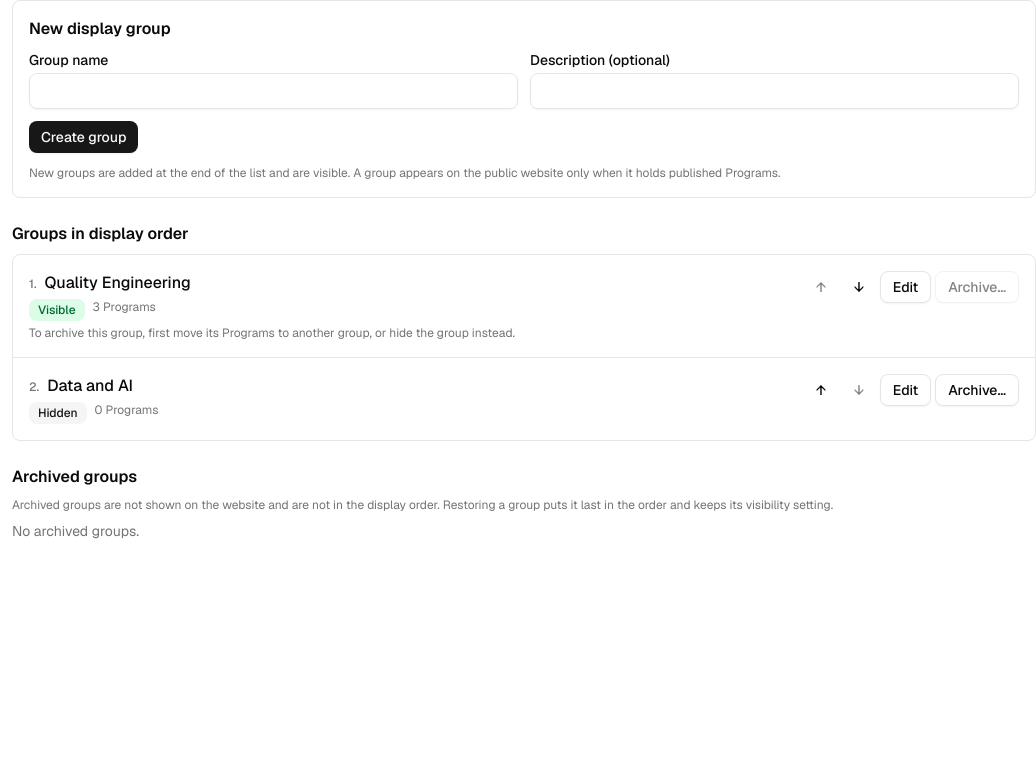
Test case: DisplayGroupsManager archive and restore › asks for confirmation before archiving, and Cancel archives nothing
Click the button with aria-label "Archive Data and AI". click: (977, 390)
box: [935,374,1019,406]
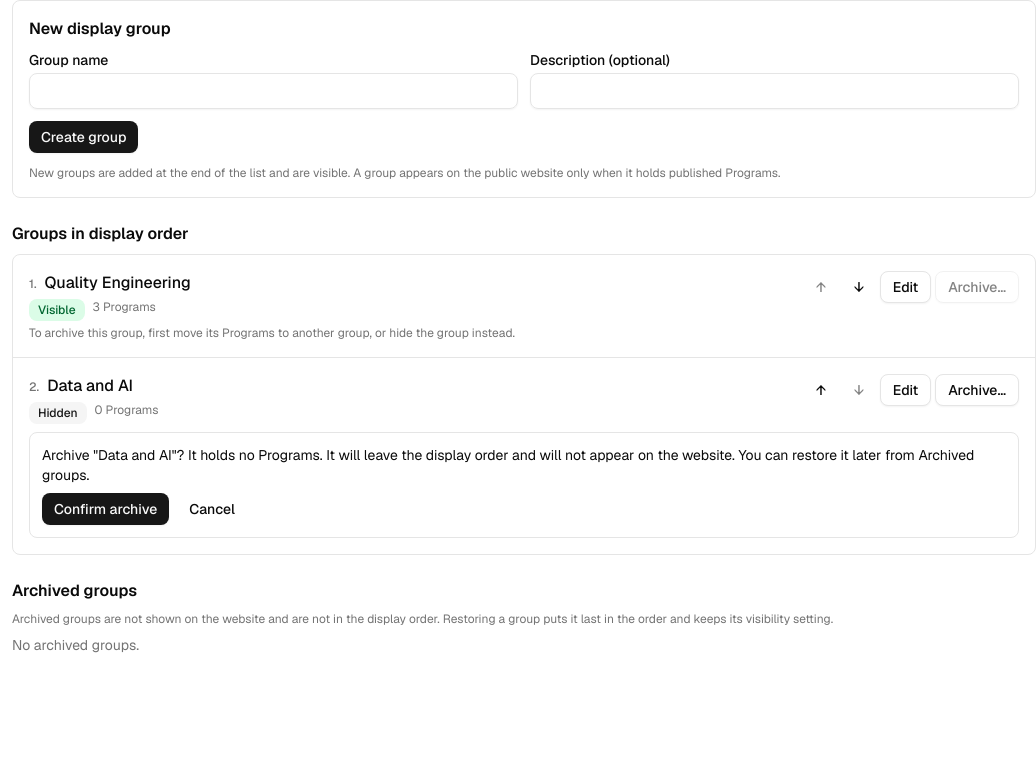
Expected: the text "Archive \"Data and AI\"? It holds no Programs" is shown, [42,445,1006,485]
Click the button "Cancel". click: (212, 509)
box: [177,493,247,525]
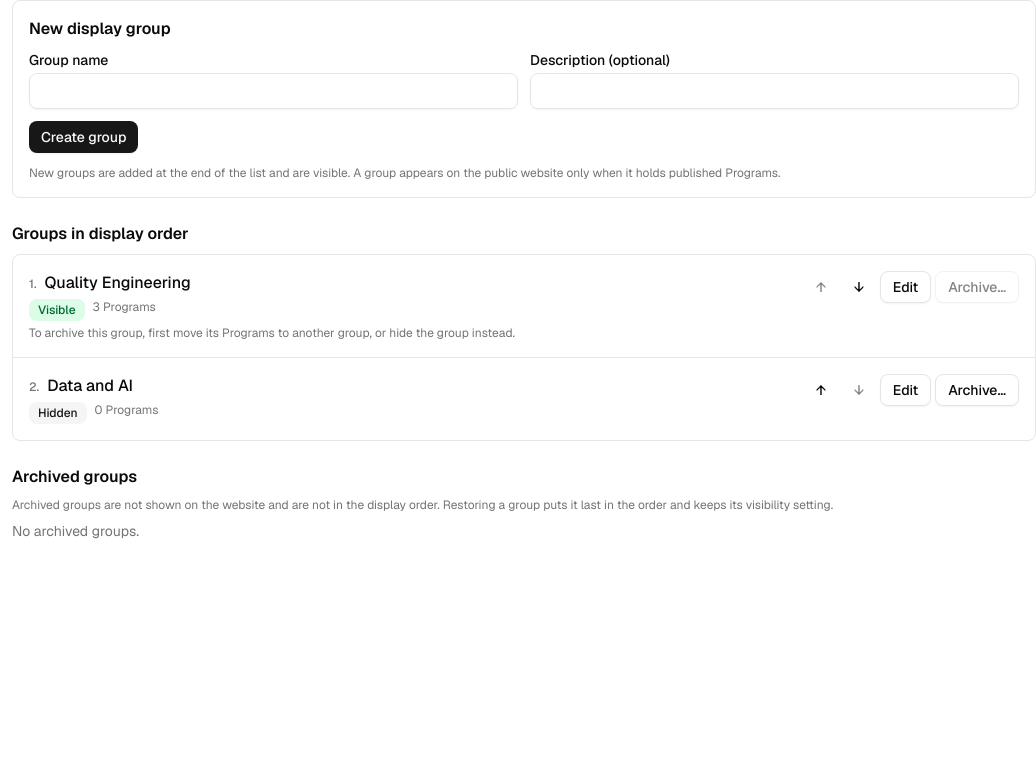
Expected: the button "Confirm archive" is gone
Click the button with aria-label "Archive Data and AI". click: (977, 390)
box: [935,374,1019,406]
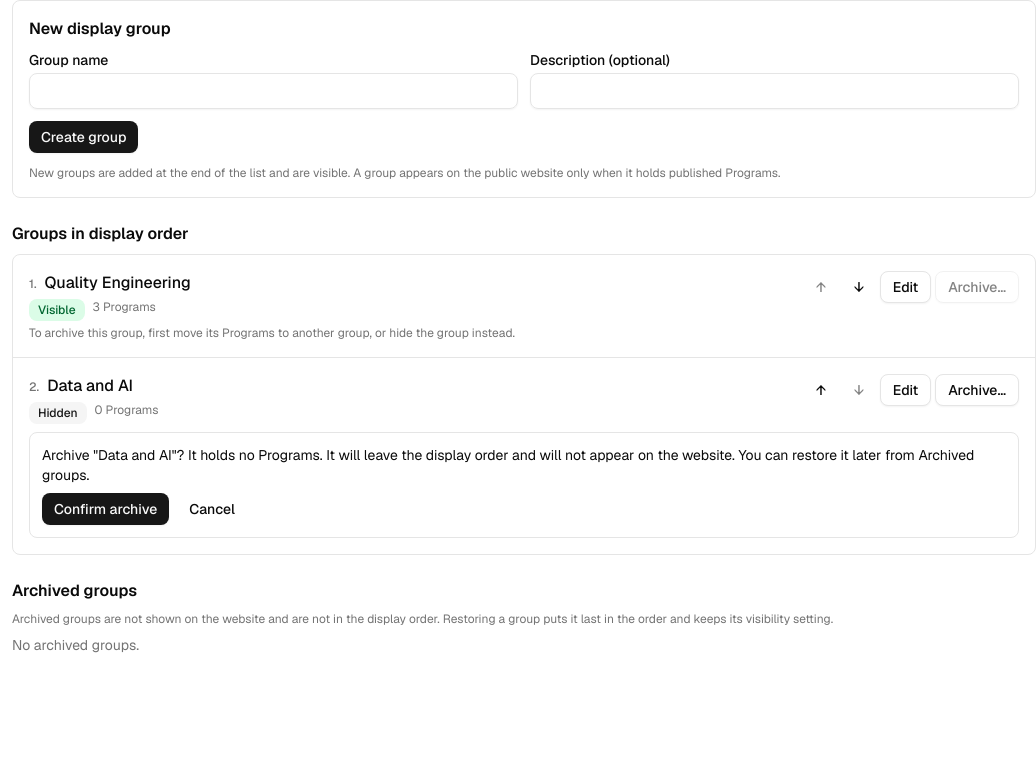
Click the button "Confirm archive". click: (106, 509)
box: [42,493,169,525]
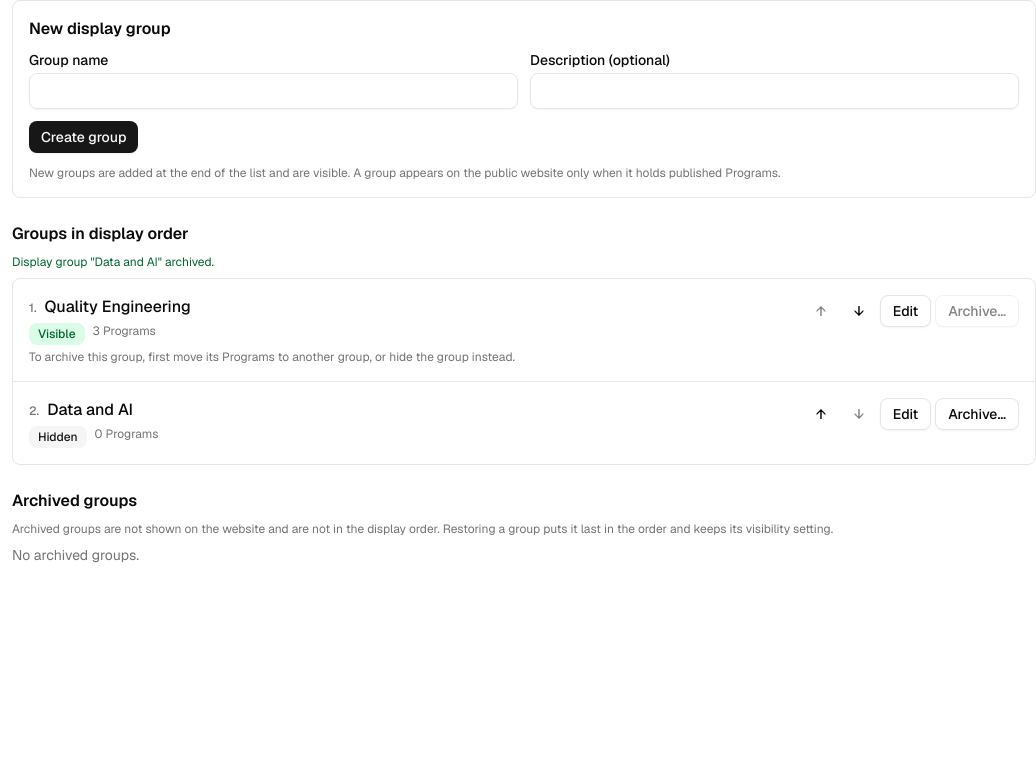
Expected: the message reads "Display group \"Data and AI\" archived.", [12,254,214,270]
Expected: the button "Confirm archive" is gone
